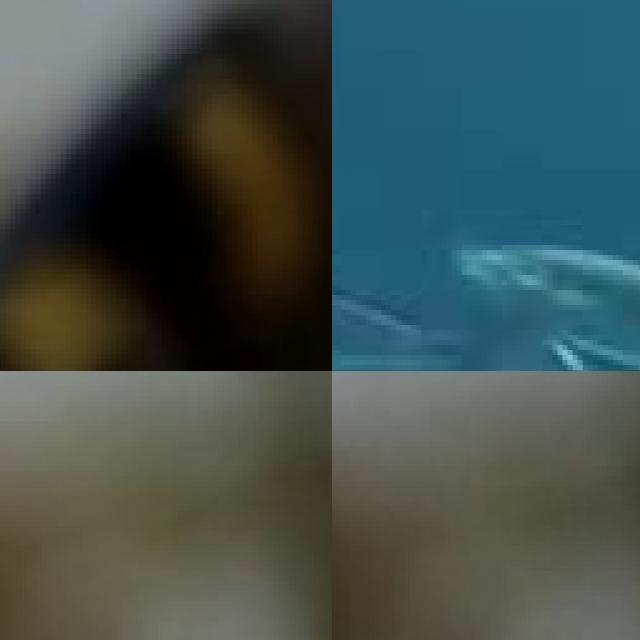fish: (0, 0, 332, 371)
